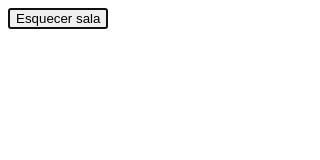
ContextMenu › clicar num item executa a acção e fecha o menu
Click the menu item "Esquecer sala": [58, 18] box [8, 8, 108, 29]
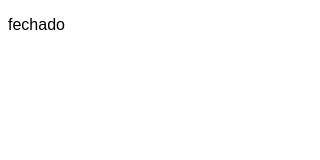
Expected: the text "fechado" is shown, [8, 16, 65, 33]
